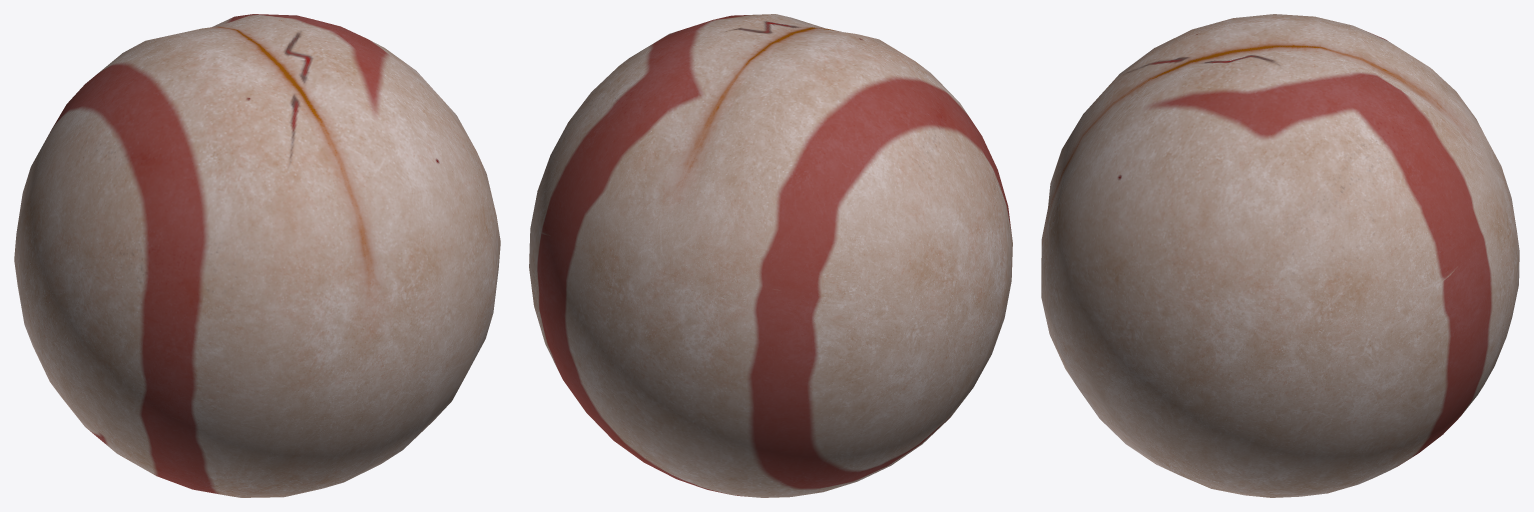
Rendered from Assteroids02.glb.
3 views of the same model, side by side, from view 1: azimuth 30°, elevation 25°; view 2: azimuth 150°, elevation 25°; view 3: azimuth 270°, elevation 25° (orthographic).
Parts seen in each view (by area): view 1: Ass02; view 2: Ass02; view 3: Ass02.
Part boxes in pixels (box(x1,y1,x2,y2)): Ass02: box(14, 14, 500, 497); Ass02: box(529, 14, 1012, 497); Ass02: box(1041, 14, 1519, 497).
Bounding box in the file's own units: 1.99 × 1.97 × 1.97.
Materials: 1 (1 with a texture image).
